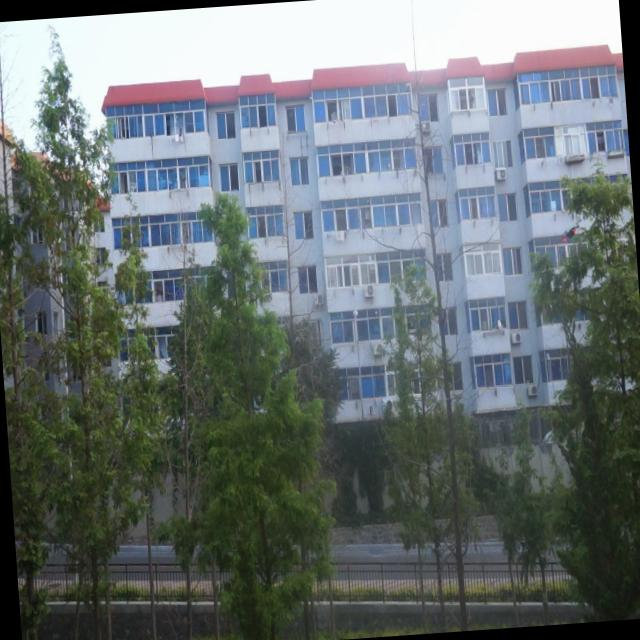drone: (559, 220, 580, 247)
